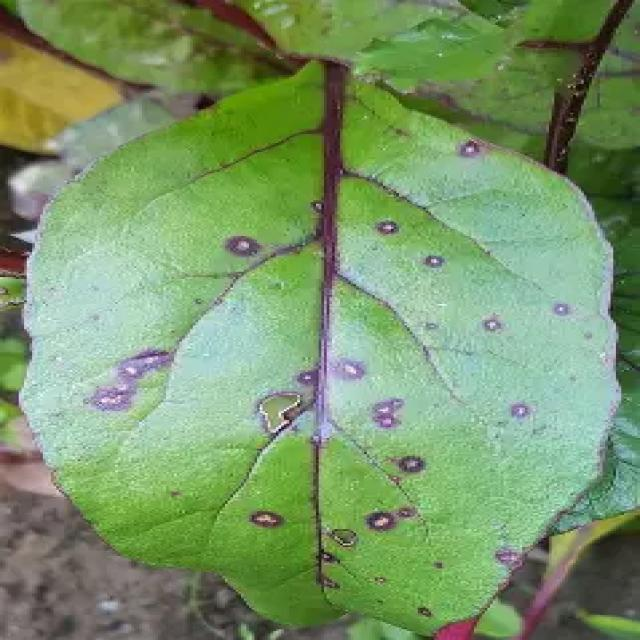leaf_spot: (24, 64, 616, 633)
